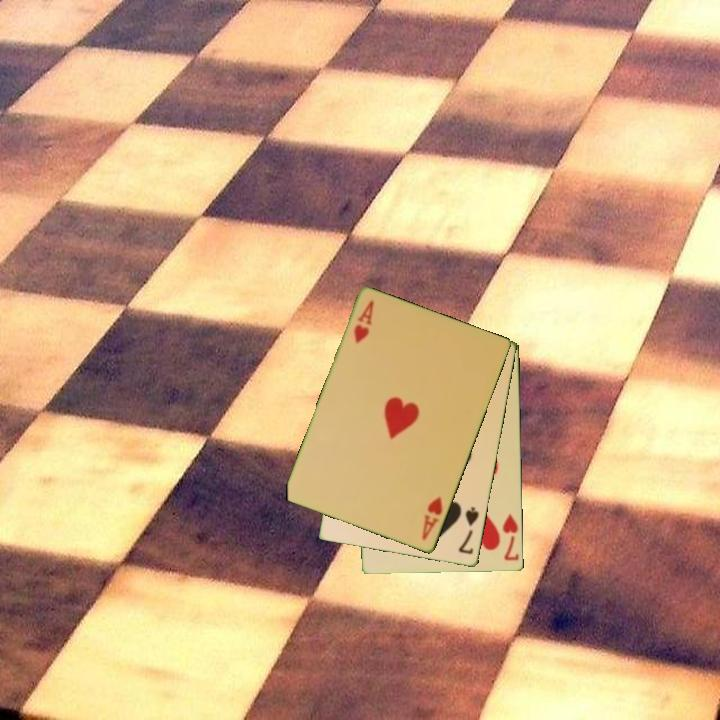7h: (499, 510, 522, 563)
7s: (455, 504, 482, 557)
Ah: (418, 493, 446, 543), (350, 297, 377, 347)
